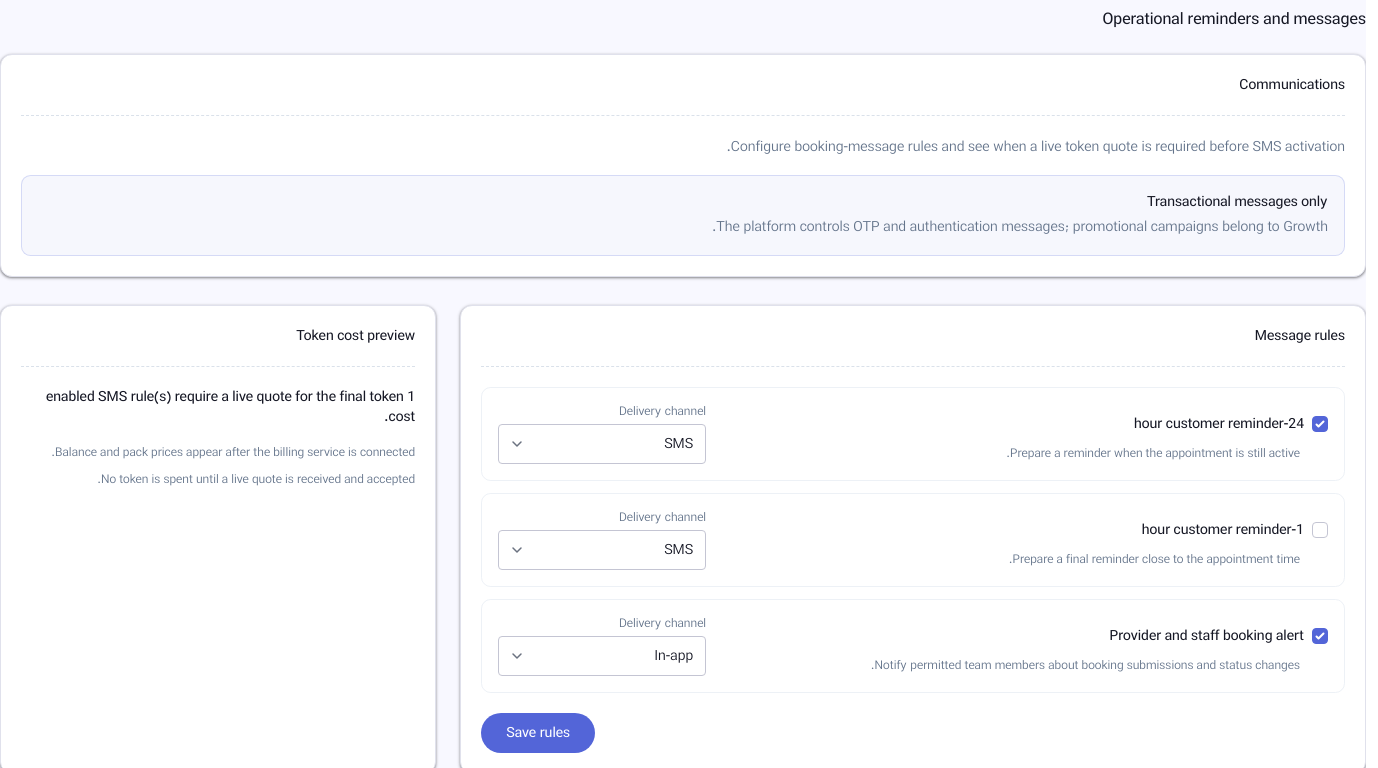
CommunicationsPage › updates the live token-quote boundary without inventing a cost
The width and height of the screenshot is (1378, 768).
Expected: the text "1 enabled SMS rule(s) require a live quote for the final token cost." is shown, [21,386,415,426]
What coordinates should you click on to do the following:
click the checkbox labelled "1-hour customer reminder"
I would click on:
 (1320, 530)
Its box is [1312,522,1328,538].
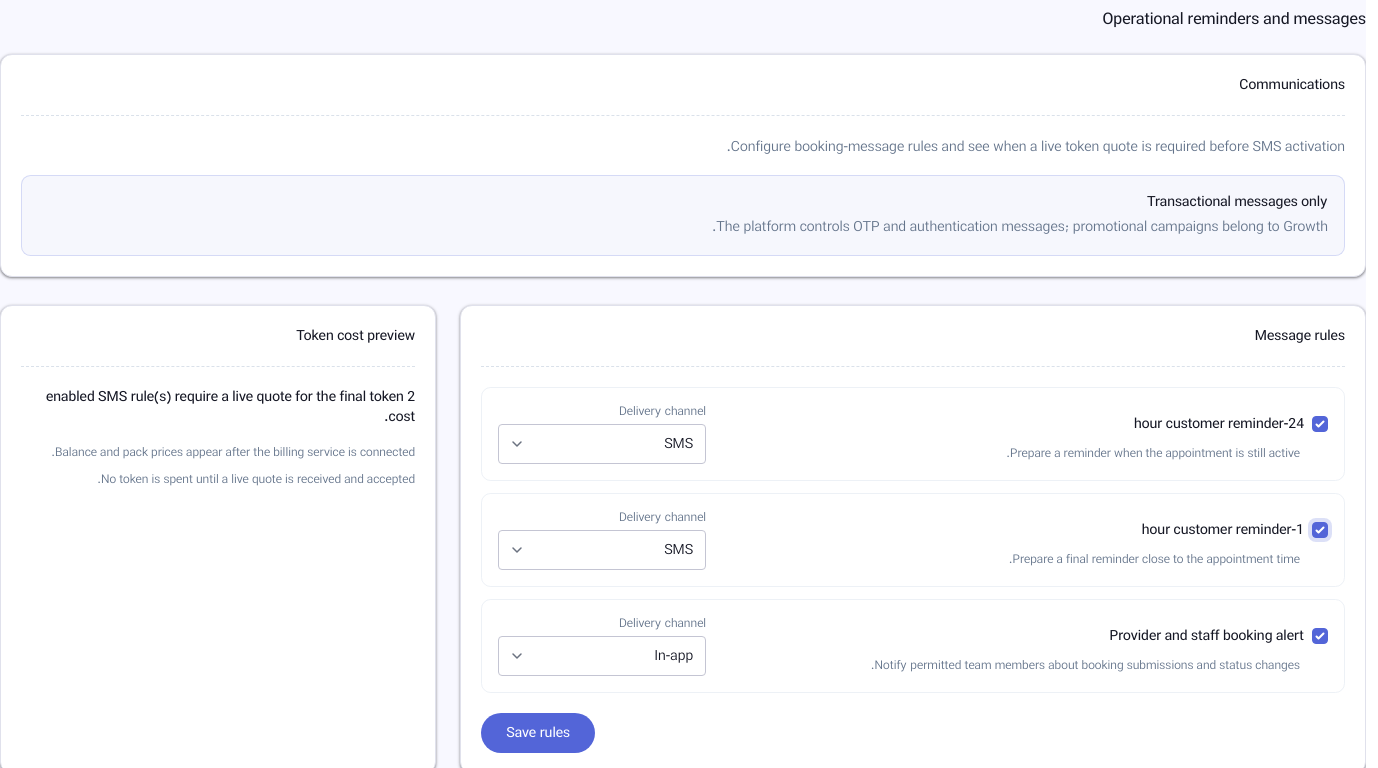
Result: the text "2 enabled SMS rule(s) require a live quote for the final token cost." is shown at [21,386,415,426]
What coordinates should you click on to do the following:
click the button "Save rules"
I would click on:
 (538, 732)
Its box is [481,712,595,752].
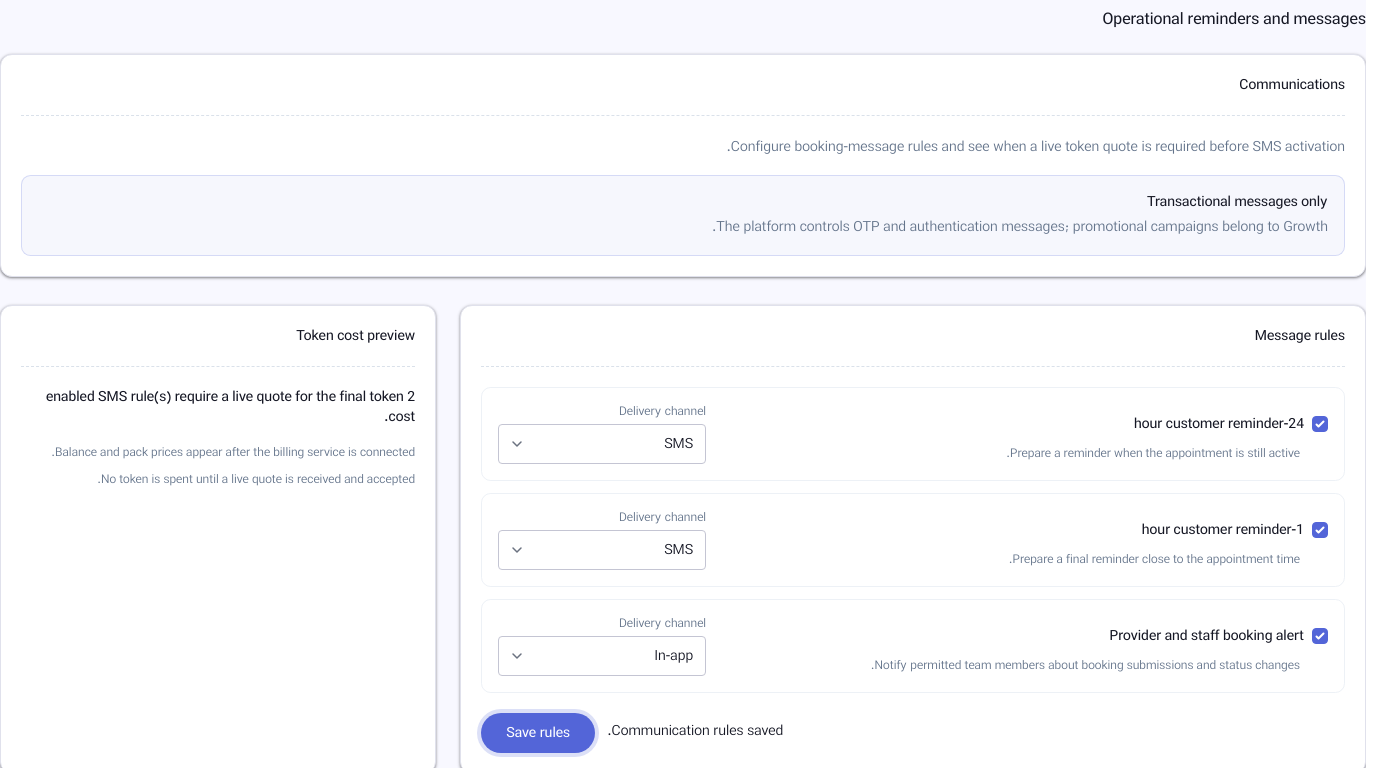
Result: the text "Communication rules saved." is shown at [607,720,783,744]
